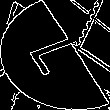L_NE: (16, 30, 94, 80)
